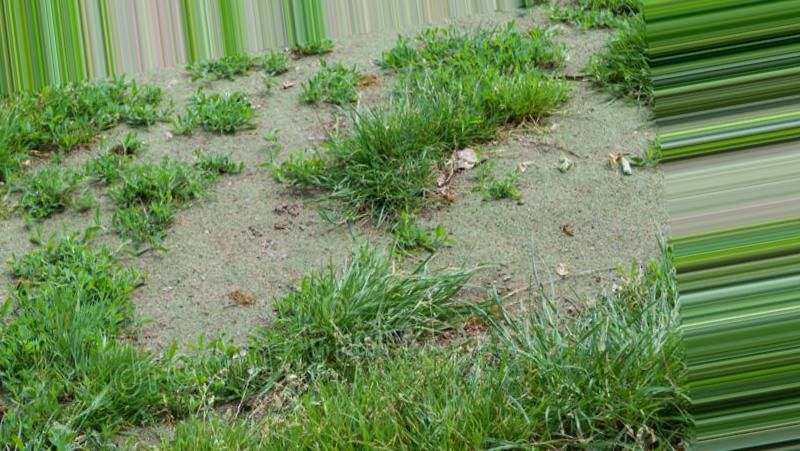patch: (476, 217, 619, 324), (529, 120, 635, 192), (183, 259, 273, 324), (174, 211, 320, 247), (243, 88, 320, 140), (109, 135, 228, 157), (338, 46, 402, 81), (129, 278, 164, 312)
